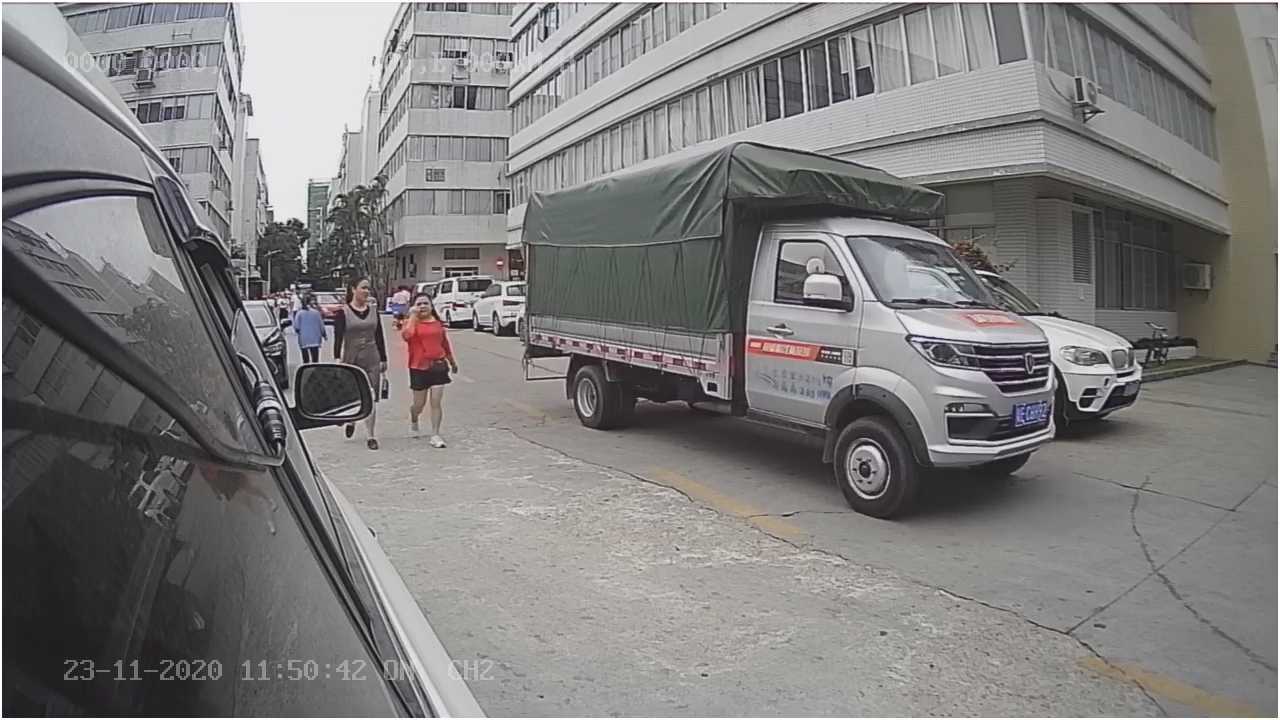person: (393, 295, 468, 444)
